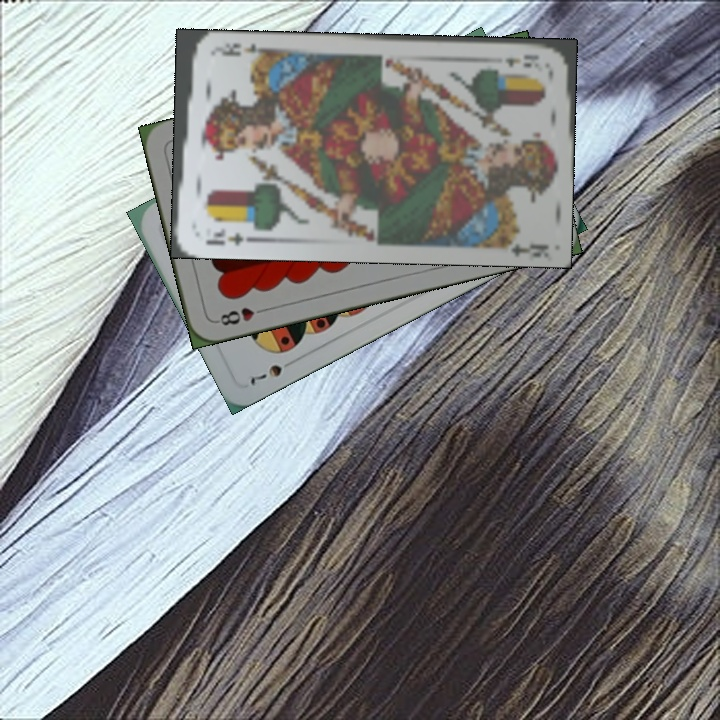EK: (202, 224, 255, 248), (501, 50, 541, 70)
H8: (212, 303, 270, 328)
S7: (246, 355, 299, 388)
